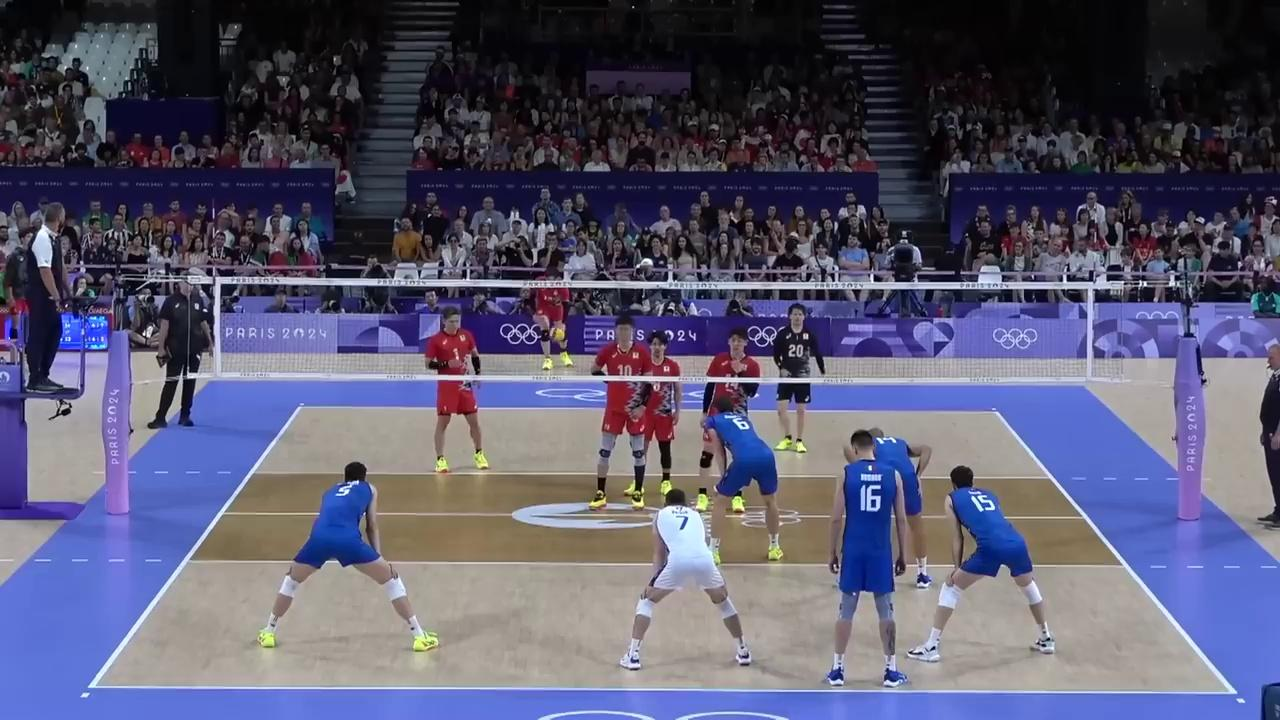ball: (549, 327, 566, 343)
